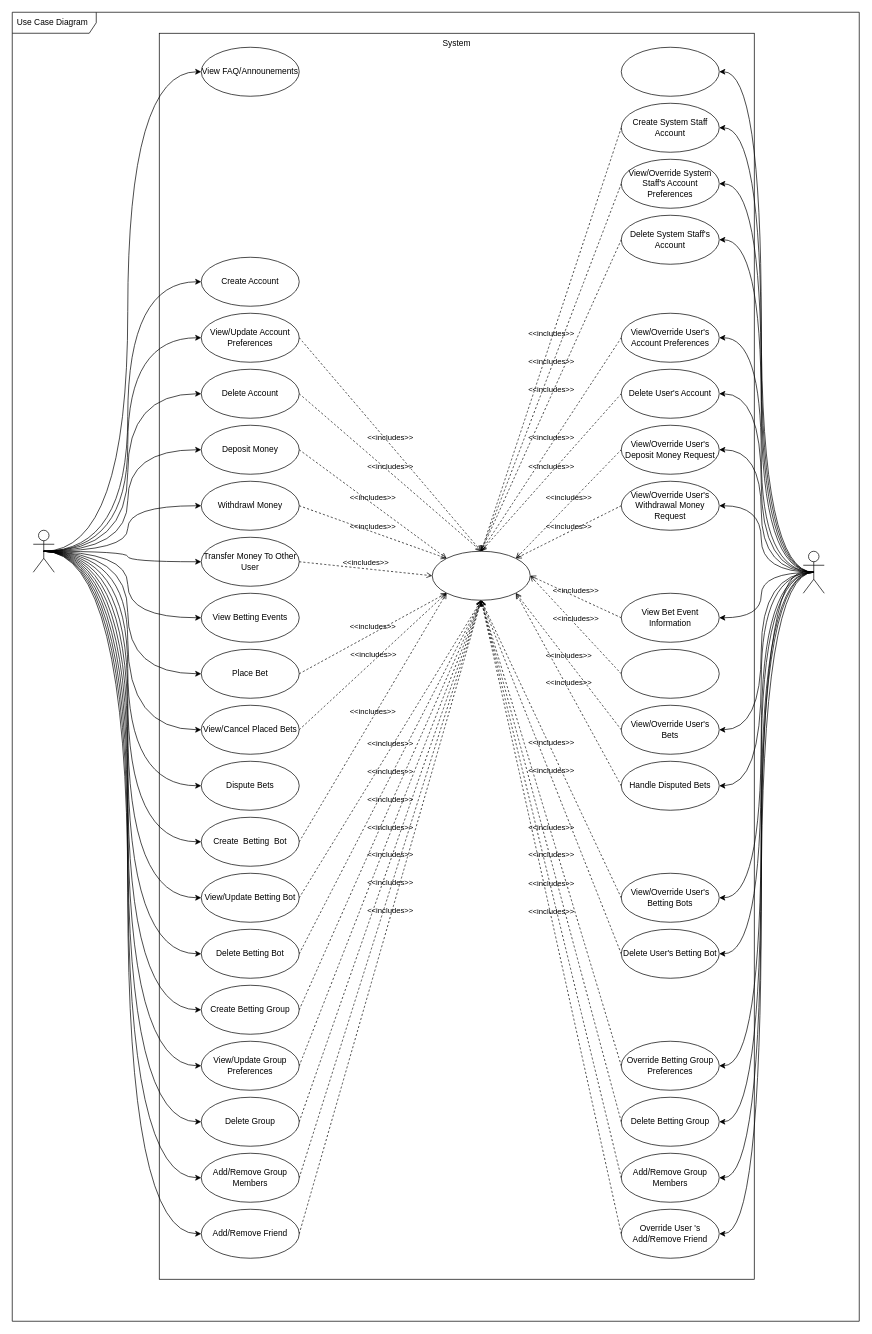
This 872x1334 diagram has some shape labels left out. The shapes that lost their labels are listed below. From the top down, each one's centre as x and y in pixels, then its label:
At (x=670, y=71): "View/Override FAQ/Announements".
At (x=43, y=551): "User".
At (x=481, y=575): "Login".
At (x=813, y=572): "System Staff".
At (x=670, y=673): "Reverse Bet Event's Bet Payouts".
